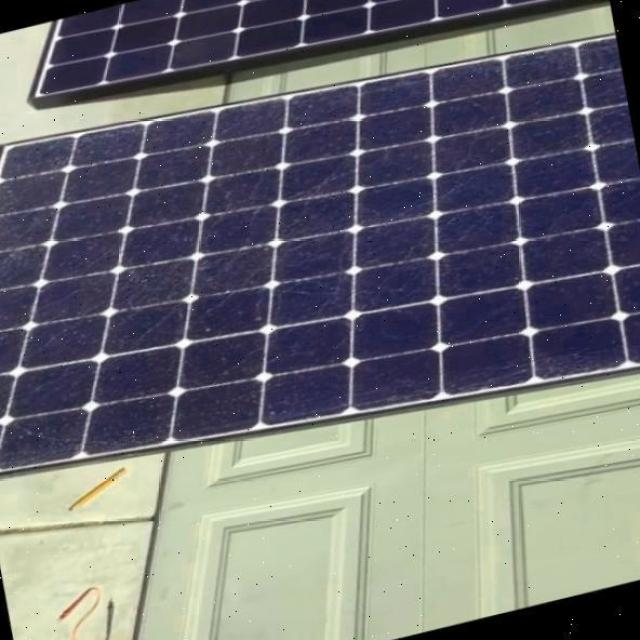Normal Solar Panel: (17, 0, 613, 135)
